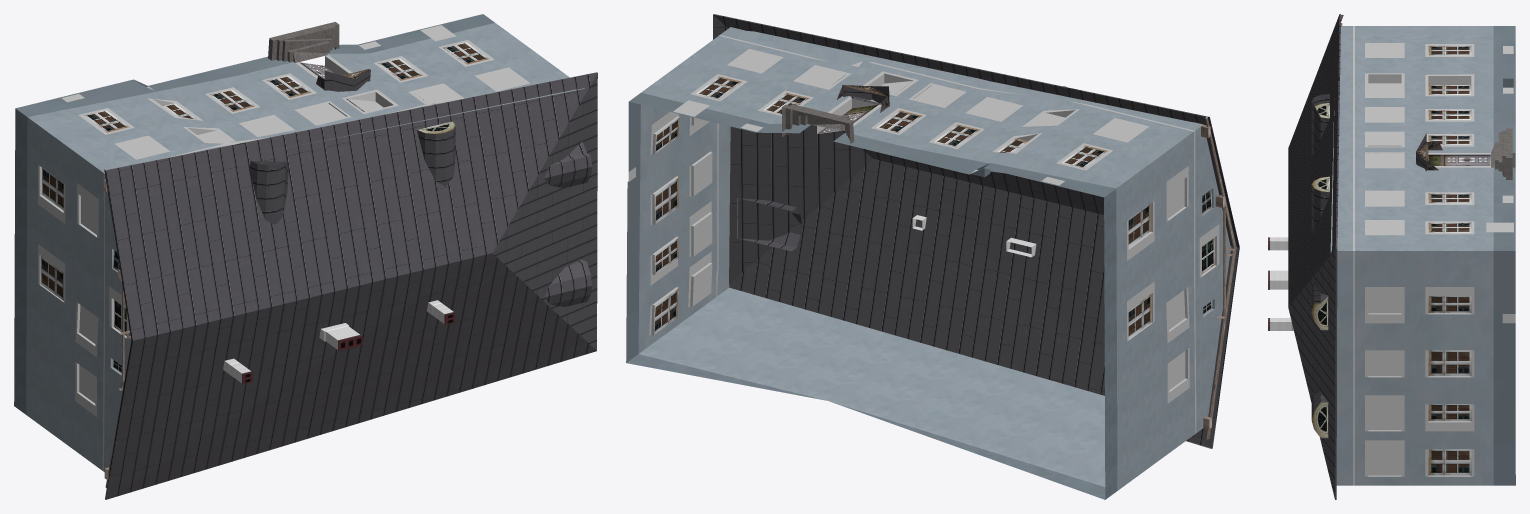
The model's file is Piiskopi_5-origo.obj.
3 views of the same model, side by side, from view 1: azimuth 30°, elevation 25°; view 2: azimuth 150°, elevation 25°; view 3: azimuth 270°, elevation 25° (orthographic). The views are drawn at different scales.
Visible parts, largest first — view 1: Piiskopi_5; view 2: Piiskopi_5; view 3: Piiskopi_5.
Part boxes in pixels (x1,y1,x2,y2): Piiskopi_5: [14, 14, 597, 499]; Piiskopi_5: [626, 14, 1239, 499]; Piiskopi_5: [1268, 14, 1515, 499].
Bounding box in the file's own units: 26.06 × 16.5 × 12.49.
